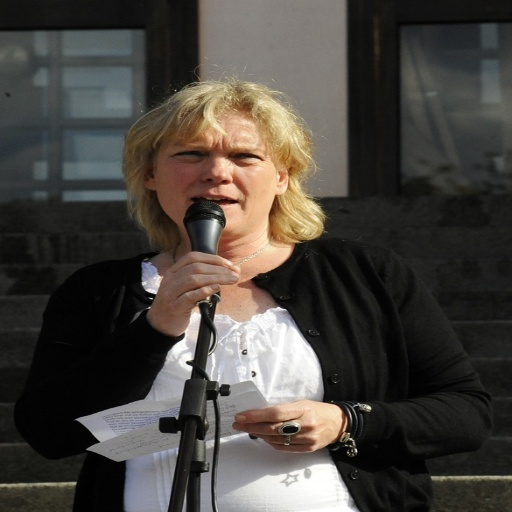hand: (145, 250, 238, 335), (231, 396, 348, 453)
